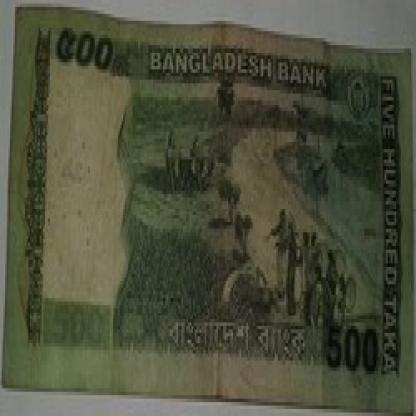500 taka: (43, 14, 130, 83)
currency: (0, 0, 415, 413)
